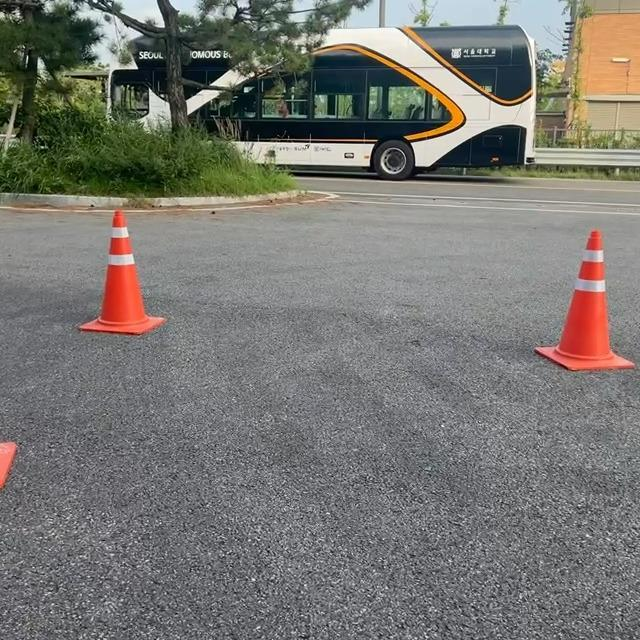fallen_object: (506, 205, 640, 400), (67, 152, 205, 332), (0, 382, 98, 532)
